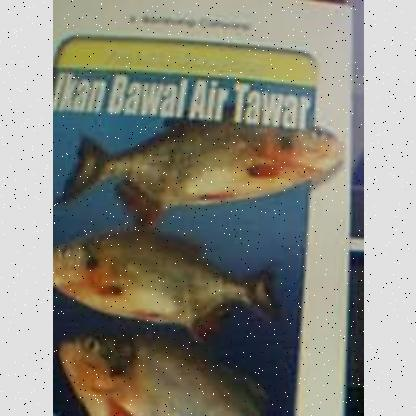ikan-pacu: (66, 107, 338, 207), (52, 232, 270, 322), (60, 328, 278, 414)
